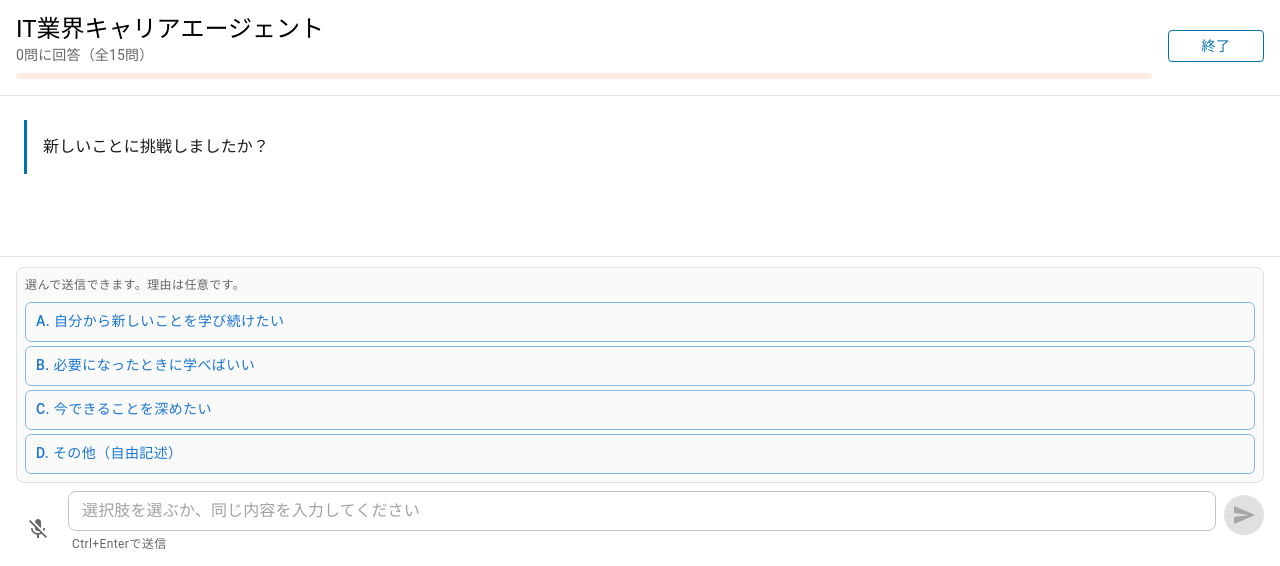
Test: チャットの選択肢の切り替わり › 次が自由記述の質問なら選択肢は消える
What coordinates should you click on to do the following:
click the button "A. 自分から新しいことを学び続けたい"
I would click on:
 (169, 321)
Its box is [25,302,1255,342].
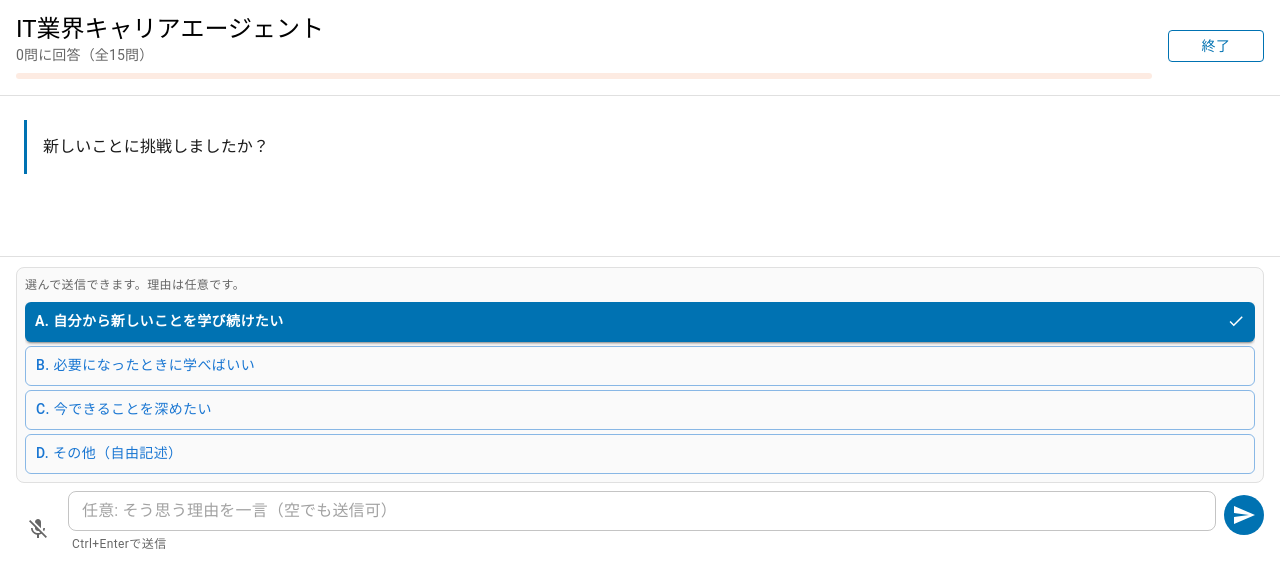
What coordinates should you click on to do the following:
click the button named "メッセージを送信"
I would click on:
 (1244, 515)
Its box is [1224,495,1264,535].
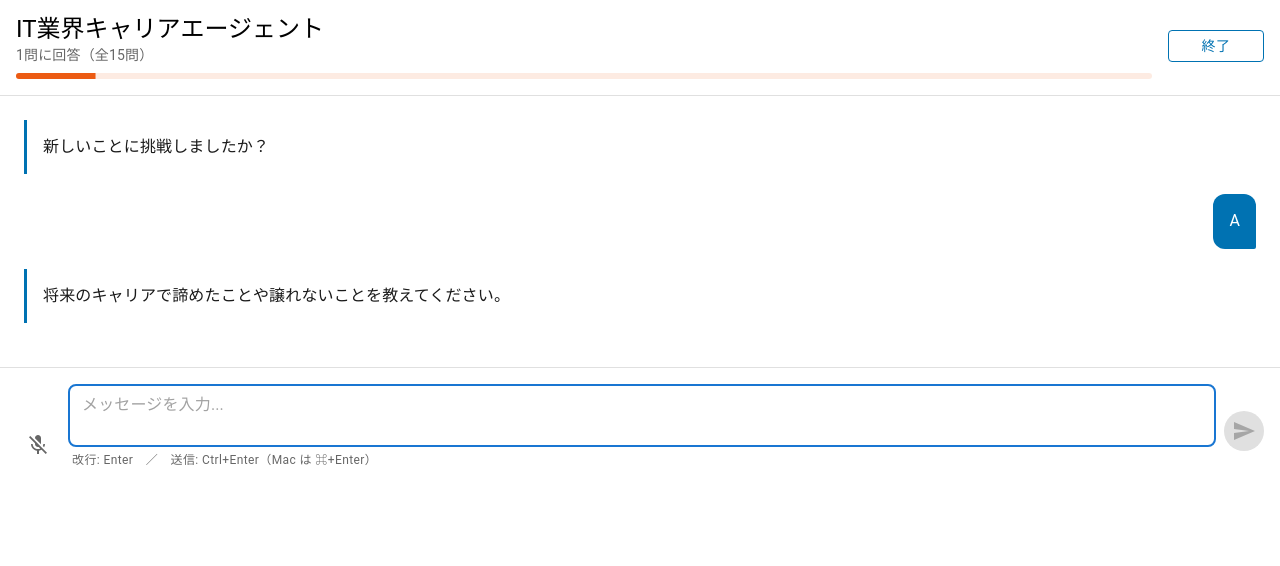
Check: the button "自分から新しいことを学び続けたい" is gone
